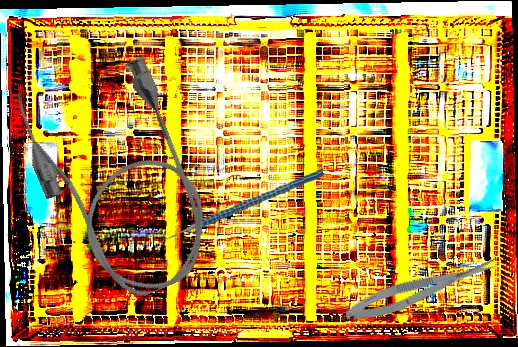Cannula: (4, 42, 230, 317)
Chopper: (152, 168, 329, 256)
Micro Scissor: (341, 251, 503, 329)
